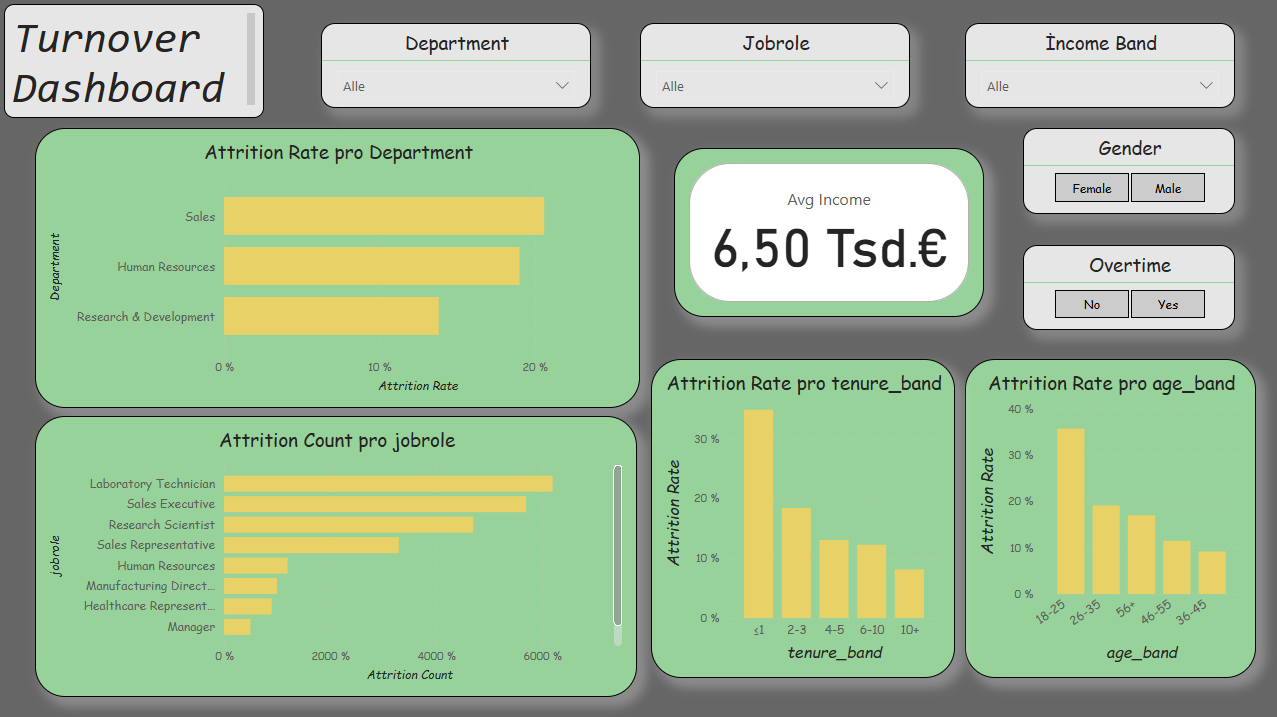

This screenshot's page, from the dashboard's own definition file:
{"tool":"powerbi","page":{"name":"Seite 1","canvas":[1280,720],"ordinal":0},"visuals":[{"type":"barChart","title":"Attrition Rate pro Department","fields":{"Category":["Dim_Department.department"],"Y":["Meansures.Attrition Rate"]},"box":[38,129,605,280],"z":0},{"type":"clusteredBarChart","title":"Attrition Count pro jobrole","fields":{"Category":["Dim_JobRole.jobrole"],"Y":["Meansures.Attrition Count"]},"box":[38,417,602,281],"z":1000},{"type":"clusteredColumnChart","title":"Attrition Rate pro age_band","fields":{"Category":["Dim_AgeBand.age_band"],"Y":["Meansures.Attrition Rate"]},"box":[968,360,291,319],"z":2000},{"type":"clusteredColumnChart","title":"Attrition Rate pro tenure_band","fields":{"Category":["Dim_TenureBand.tenure_band"],"Y":["Meansures.Attrition Rate"]},"box":[654,360,304,319],"z":3000},{"type":"cardVisual","fields":{"Data":["Meansures.Avg Income"]},"box":[677,149,310,169],"z":4000},{"type":"slicer","title":"Department","fields":{"Values":["Dim_Department.department"]},"box":[324,24,270,85],"z":5000},{"type":"slicer","title":"Jobrole","fields":{"Values":["Dim_JobRole.jobrole"]},"box":[643,24,270,85],"z":6000},{"type":"slicer","title":"Overtime","fields":{"Values":["fact_HR.overtime"]},"box":[1026,246,212,85],"z":7000},{"type":"slicer","title":"Gender","fields":{"Values":["fact_HR.gender"]},"box":[1026,129,212,86],"z":8000},{"type":"slicer","title":"İncome Band","fields":{"Values":["fact_HR.income_band"]},"box":[968,24,270,85],"z":9000},{"type":"textbox","box":[7,5,260,114],"z":10000}]}

Visuals, with their boxes in screenshot pixels (x1, y1, x2, y2), scaled from the page's 1280x720 canvas onto the 1277x717 screenshot:
"Attrition Rate pro Department" barChart: box=[38, 128, 641, 407]
"Attrition Count pro jobrole" clusteredBarChart: box=[38, 415, 638, 695]
"Attrition Rate pro age_band" clusteredColumnChart: box=[966, 358, 1256, 676]
"Attrition Rate pro tenure_band" clusteredColumnChart: box=[652, 358, 956, 676]
cardVisual - Meansures.Avg Income: box=[675, 148, 985, 317]
"Department" slicer: box=[323, 24, 593, 109]
"Jobrole" slicer: box=[641, 24, 911, 109]
"Overtime" slicer: box=[1024, 245, 1235, 330]
"Gender" slicer: box=[1024, 128, 1235, 214]
"İncome Band" slicer: box=[966, 24, 1235, 109]
textbox: box=[7, 5, 266, 119]
